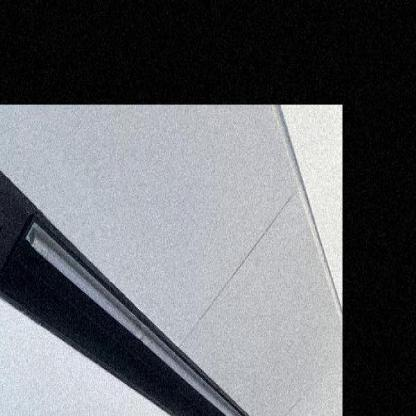light_off: (21, 207, 253, 415)
